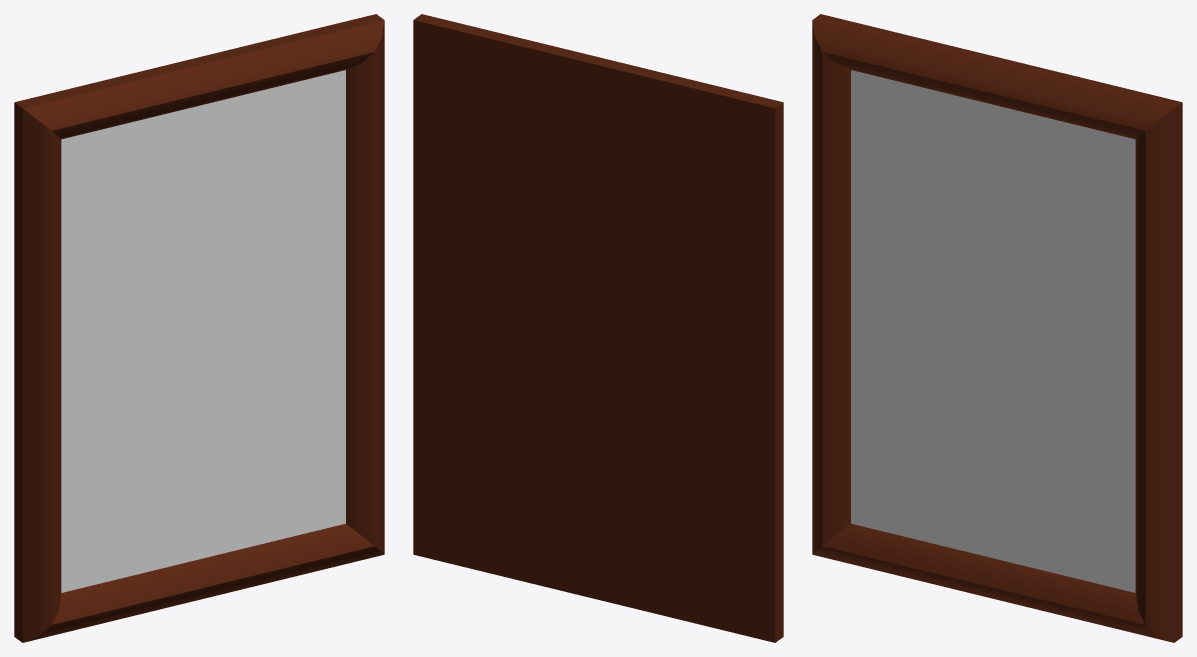
The model's file is hemsireTablosu.fbx.
3 renders of one model, left to right at view 1: azimuth 30°, elevation 25°; view 2: azimuth 150°, elevation 25°; view 3: azimuth 330°, elevation 25°, orthographic.
Parts seen in each view (by area): view 1: hemsireTablosu; view 2: hemsireTablosu; view 3: hemsireTablosu.
Boxes of the visible parts, x1,y1,x2,y2 form: hemsireTablosu: (14,14,384,642); hemsireTablosu: (413,14,783,642); hemsireTablosu: (812,14,1182,642).
Size of the model in its own units: 71.66 by 101 by 6.11.
